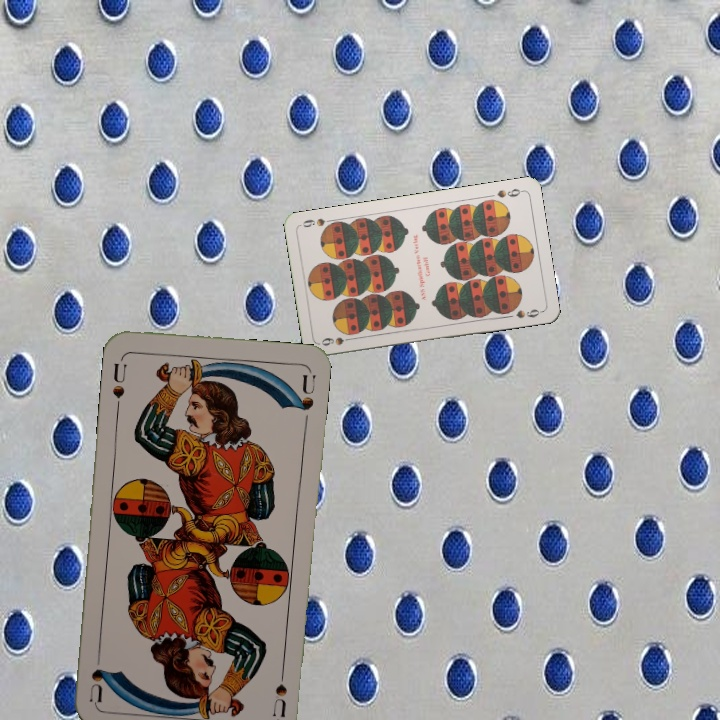S9: (318, 333, 357, 348), (493, 185, 525, 200)
SU: (268, 658, 290, 717), (108, 353, 129, 412)
